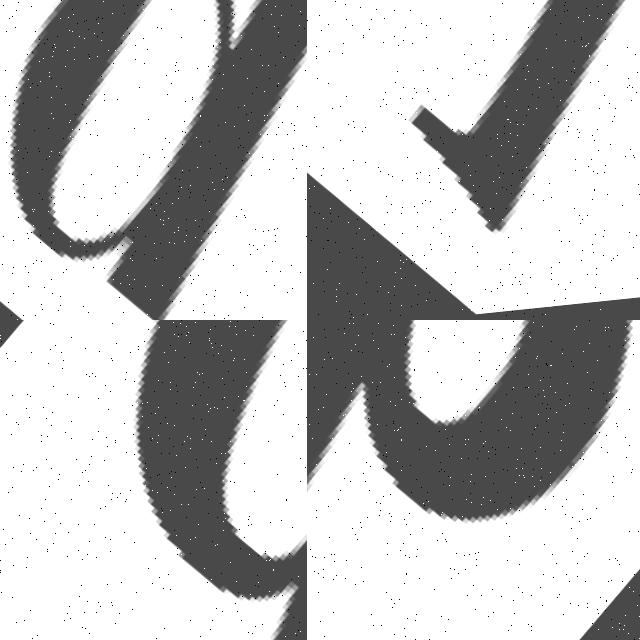B: (307, 320, 635, 531)
D: (0, 320, 307, 640)
L: (359, 0, 640, 254)
Q: (0, 0, 307, 320)
